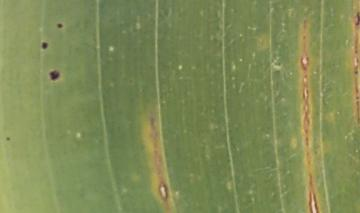tarspot: (47, 69, 61, 81), (353, 11, 360, 27), (39, 40, 49, 50), (56, 22, 64, 30), (5, 135, 12, 143)
